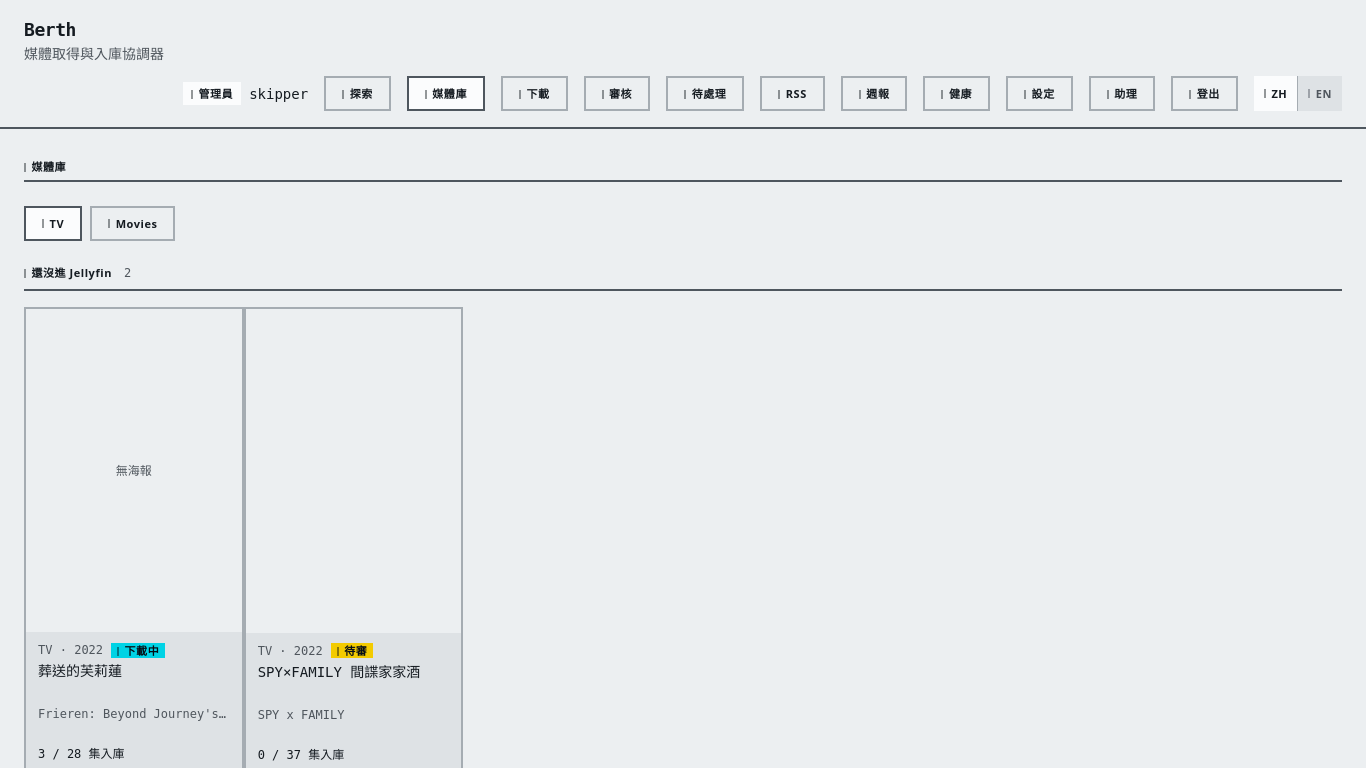
Test: 媒體庫頁 › Jellyfin 的牆 › Jellyfin 的名稱不跟 UI 語言換，切換時也不重抓（使用者拍板，brief §7.5）
Click the button "EN" at (1320, 94), box [1298,76,1342,111]
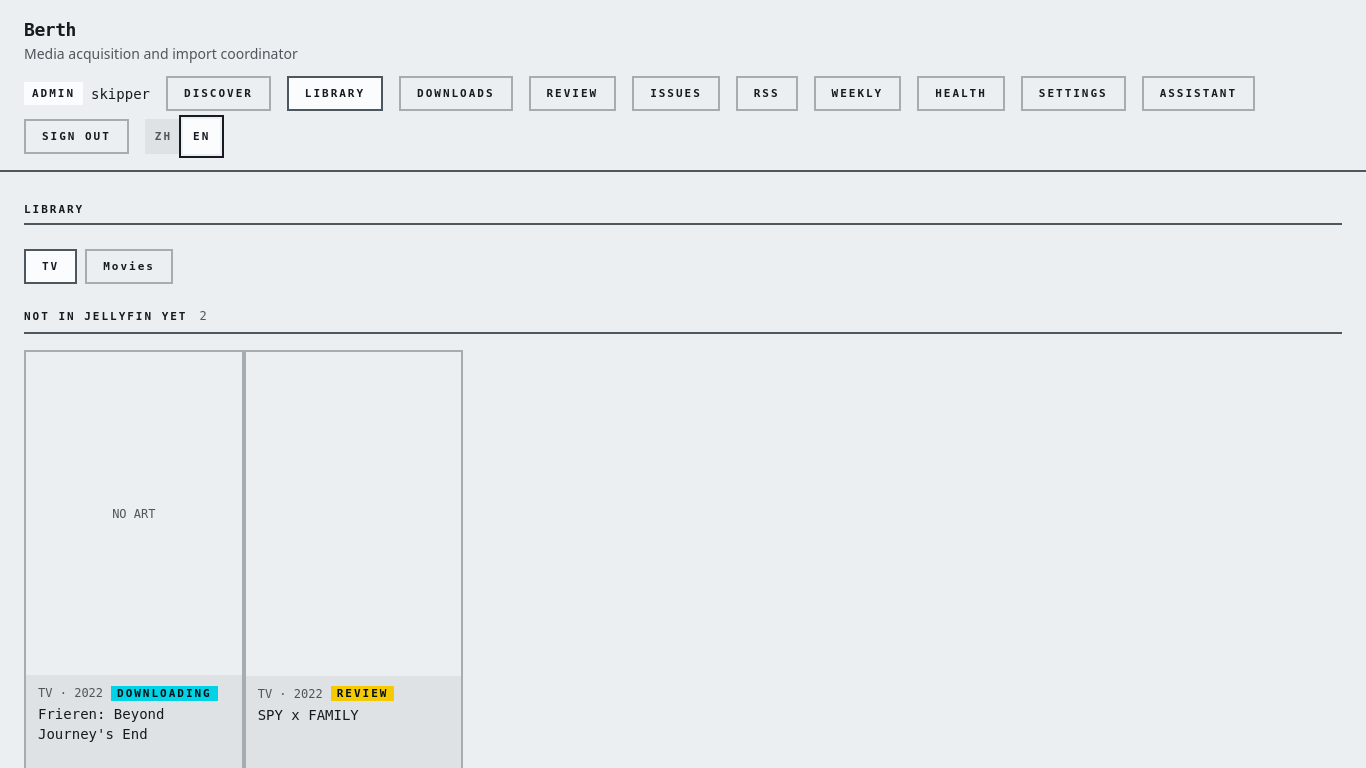
Expected: the navigation bar named "Libraries" is shown, [24,249,173,284]
